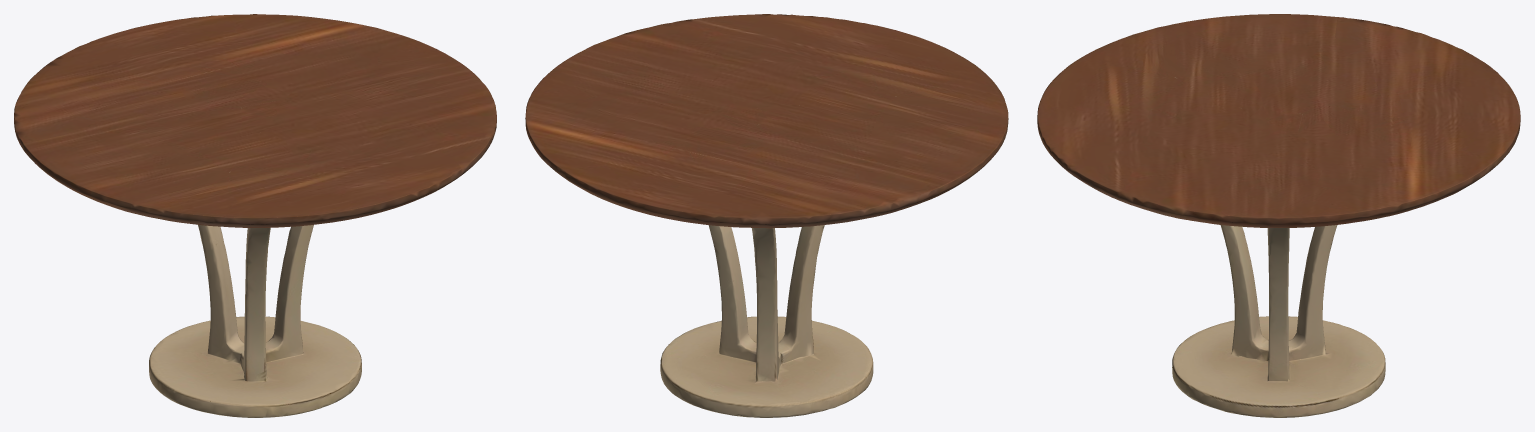
The model's file is meja_hotel.glb.
3 views of the same model, side by side, from view 1: azimuth 30°, elevation 25°; view 2: azimuth 150°, elevation 25°; view 3: azimuth 270°, elevation 25° (orthographic).
Visible parts, largest first — view 1: tripo_node_7093c48f-0cf3-48c0-a8a0-9f4beda18933; view 2: tripo_node_7093c48f-0cf3-48c0-a8a0-9f4beda18933; view 3: tripo_node_7093c48f-0cf3-48c0-a8a0-9f4beda18933.
Part boxes in pixels (box(x1,y1,x2,y2)): tripo_node_7093c48f-0cf3-48c0-a8a0-9f4beda18933: box(14, 14, 496, 417); tripo_node_7093c48f-0cf3-48c0-a8a0-9f4beda18933: box(525, 14, 1008, 417); tripo_node_7093c48f-0cf3-48c0-a8a0-9f4beda18933: box(1037, 14, 1520, 417).
Size of the model in its own units: 0.9998 by 0.5897 by 1.
1 material, 1 textured.
